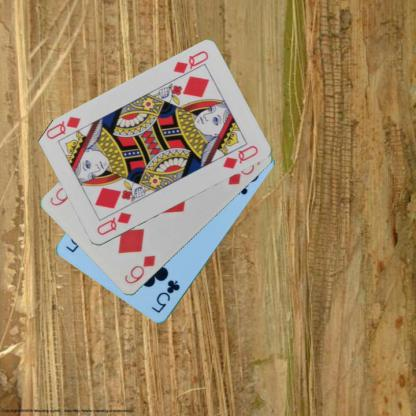5c: (148, 277, 181, 315)
6d: (122, 252, 156, 286)
Qd: (170, 48, 210, 82), (94, 210, 133, 237)
